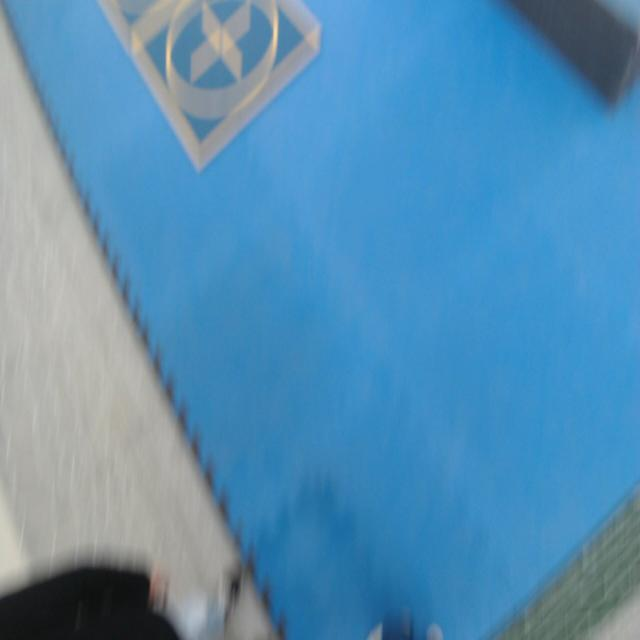base_pouso: (130, 0, 324, 174), (97, 0, 188, 53)
